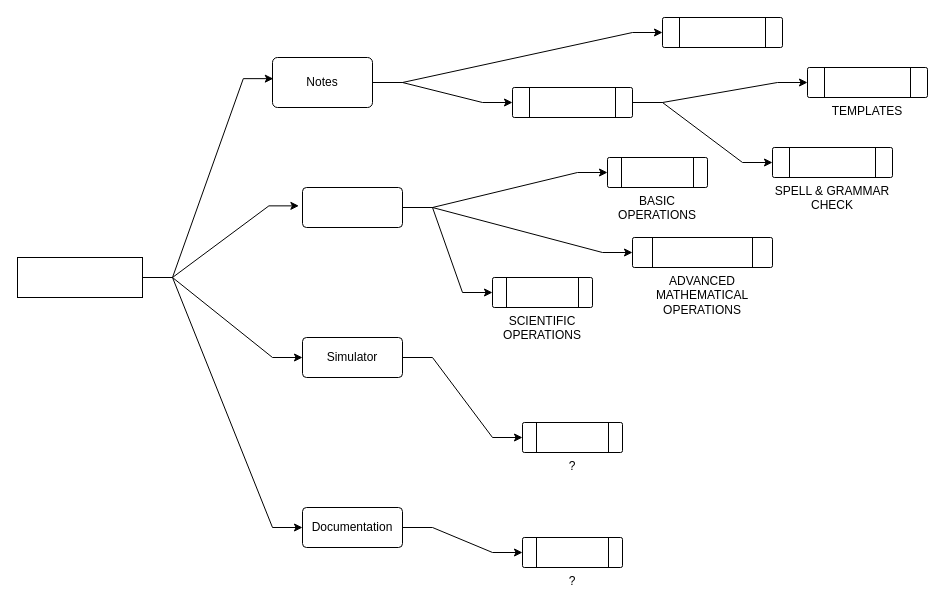
This 945x606 diagram has some shape labels left out. Here are the shapes that lost their labels. From the top down, the box of each, then its label:
(662, 16, 782, 48): CREATE, READ, UPDATE, DELETE
(512, 86, 632, 118): DOCUMENT PROCESSOR
(302, 186, 402, 228): Calculators
(16, 256, 142, 298): Stournal's Micro-Components
